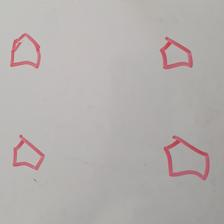simple-chemical-pentagon: (162, 135, 210, 180), (160, 36, 193, 70), (12, 135, 44, 169), (10, 33, 41, 67)
